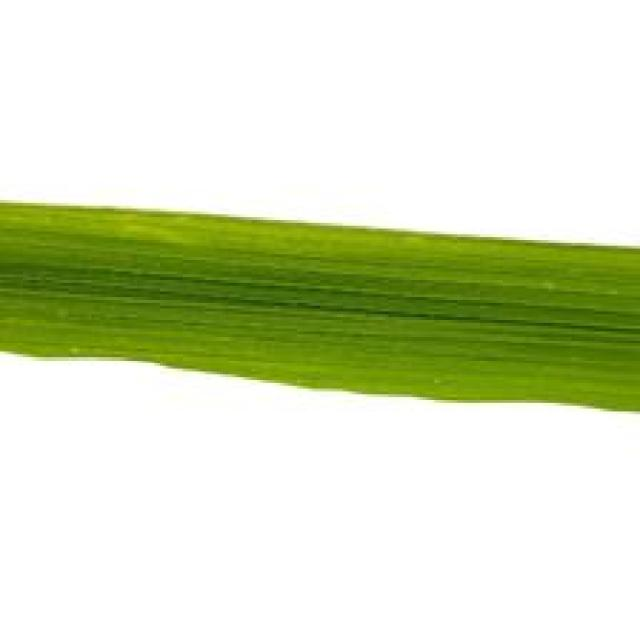Rice___Healthy_Rice_Plant: (0, 199, 637, 413)
